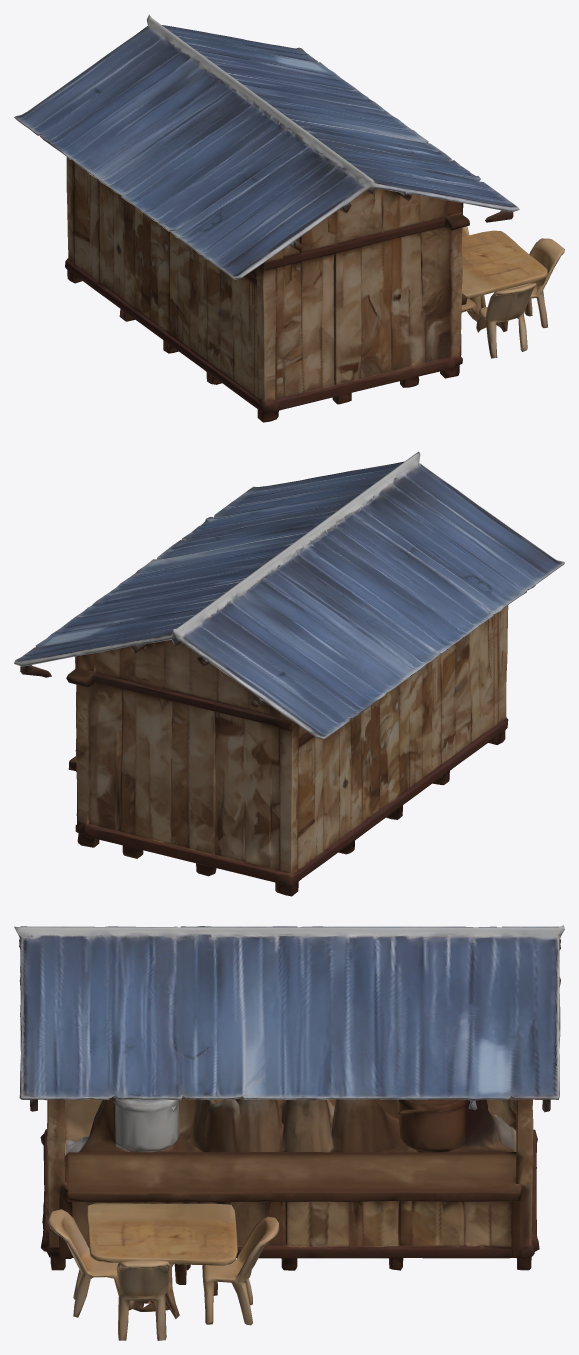
The model's file is mamaput.glb.
The picture shows the model from 3 angles, top to bottom: view 1: azimuth 30°, elevation 25°; view 2: azimuth 150°, elevation 25°; view 3: azimuth 270°, elevation 25°; orthographic projection. The views are drawn at different scales.
Visible parts, largest first — view 1: tripo_node_4f2997b7-2078-4ab3-a692-e4fd5f81ac01; view 2: tripo_node_4f2997b7-2078-4ab3-a692-e4fd5f81ac01; view 3: tripo_node_4f2997b7-2078-4ab3-a692-e4fd5f81ac01.
Boxes of the visible parts, bbox=[...] form: tripo_node_4f2997b7-2078-4ab3-a692-e4fd5f81ac01: bbox=[14, 14, 564, 422]; tripo_node_4f2997b7-2078-4ab3-a692-e4fd5f81ac01: bbox=[14, 451, 564, 896]; tripo_node_4f2997b7-2078-4ab3-a692-e4fd5f81ac01: bbox=[14, 925, 564, 1340].
Size of the model in its own units: 5.79 by 3.45 by 6.
1 material, 1 textured.
